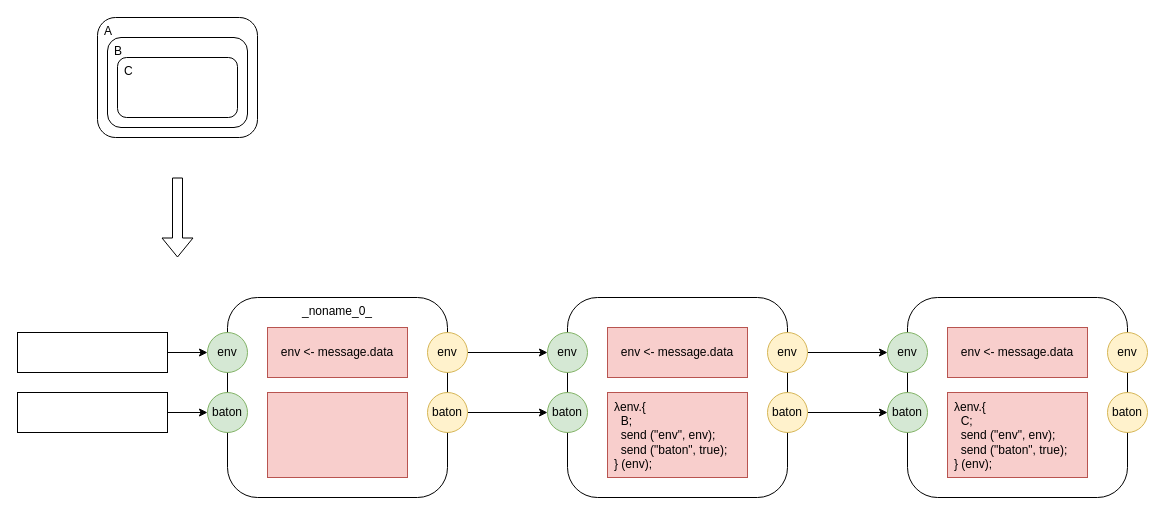
Some shapes in this 1165 by 515 pixel diagram are drawn without their labels. The box of each missing label's shape, as (x1, y1, x2, y2) in pixels:
_noname_1_: (566, 296, 788, 498)
_noname_2_: (906, 296, 1128, 498)
true: (16, 392, 168, 432)
{input-ports, output-ports}: (16, 332, 168, 372)
λenv.{ A; send ("env", env); send ("baton", true); } (env);: (266, 392, 408, 478)
